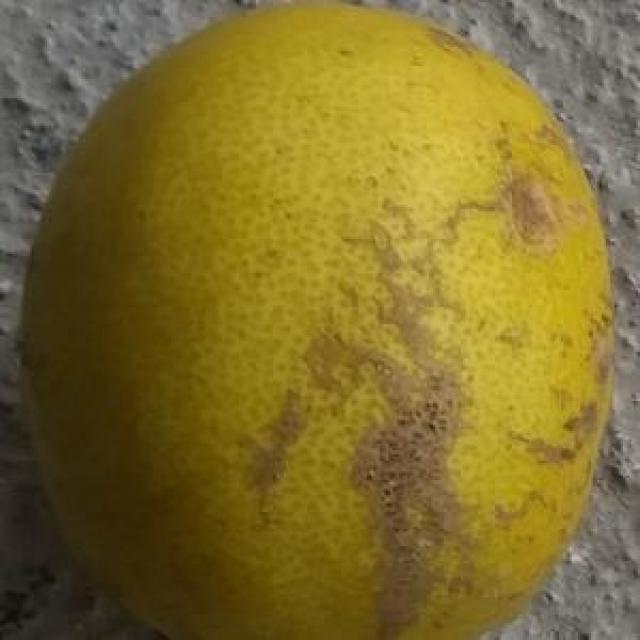lemon: (17, 1, 613, 640)
